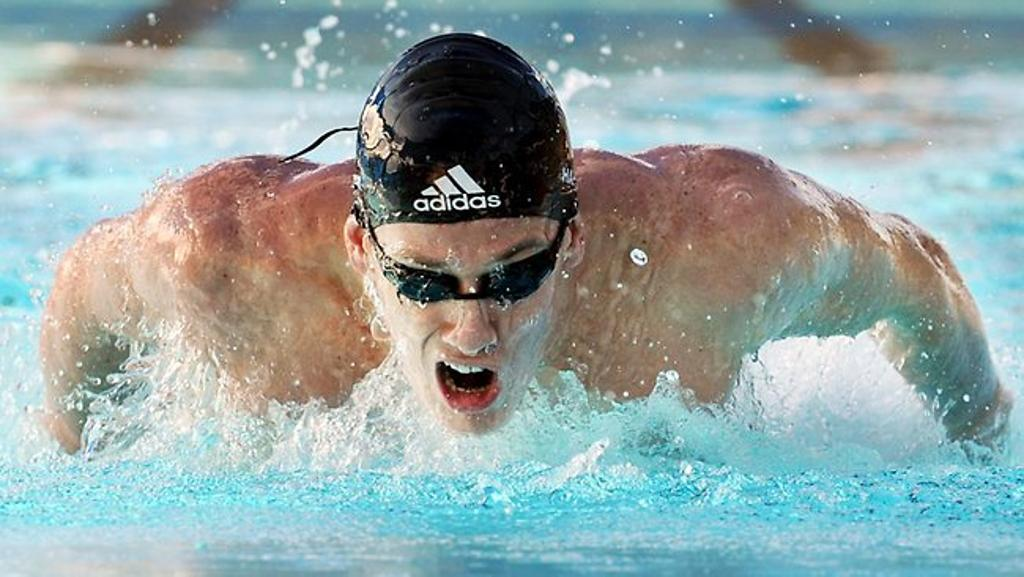face: (394, 186, 550, 434)
